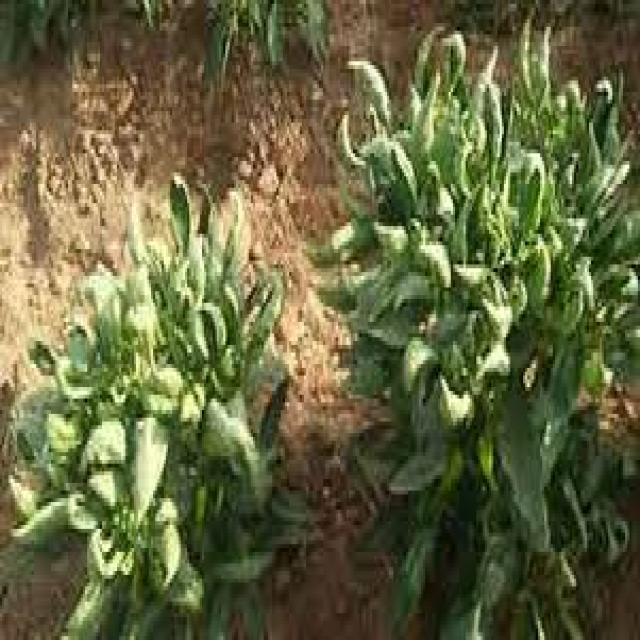Nutirtion_deficie: (323, 90, 586, 459), (36, 220, 210, 532)
